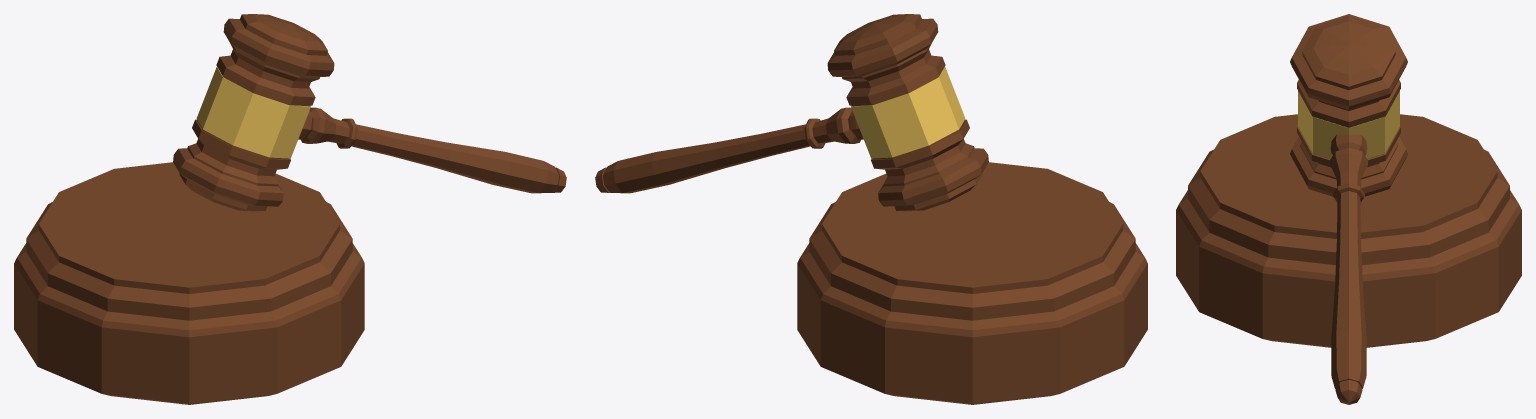
File: gavel.glb
3 views of the same model, side by side, from view 1: azimuth 30°, elevation 25°; view 2: azimuth 150°, elevation 25°; view 3: azimuth 270°, elevation 25° (orthographic).
Visible parts, largest first — view 1: Object_4, Object_5; view 2: Object_4, Object_5; view 3: Object_4, Object_5.
Part boxes in pixels (bbox=[...]): Object_4: bbox=[14, 14, 566, 404]; Object_5: bbox=[196, 67, 310, 158]; Object_4: bbox=[595, 14, 1147, 404]; Object_5: bbox=[851, 67, 965, 158]; Object_4: bbox=[1176, 14, 1521, 404]; Object_5: bbox=[1298, 91, 1399, 158].
Bounding box in the file's own units: 25.12 × 13.66 × 14.46.
